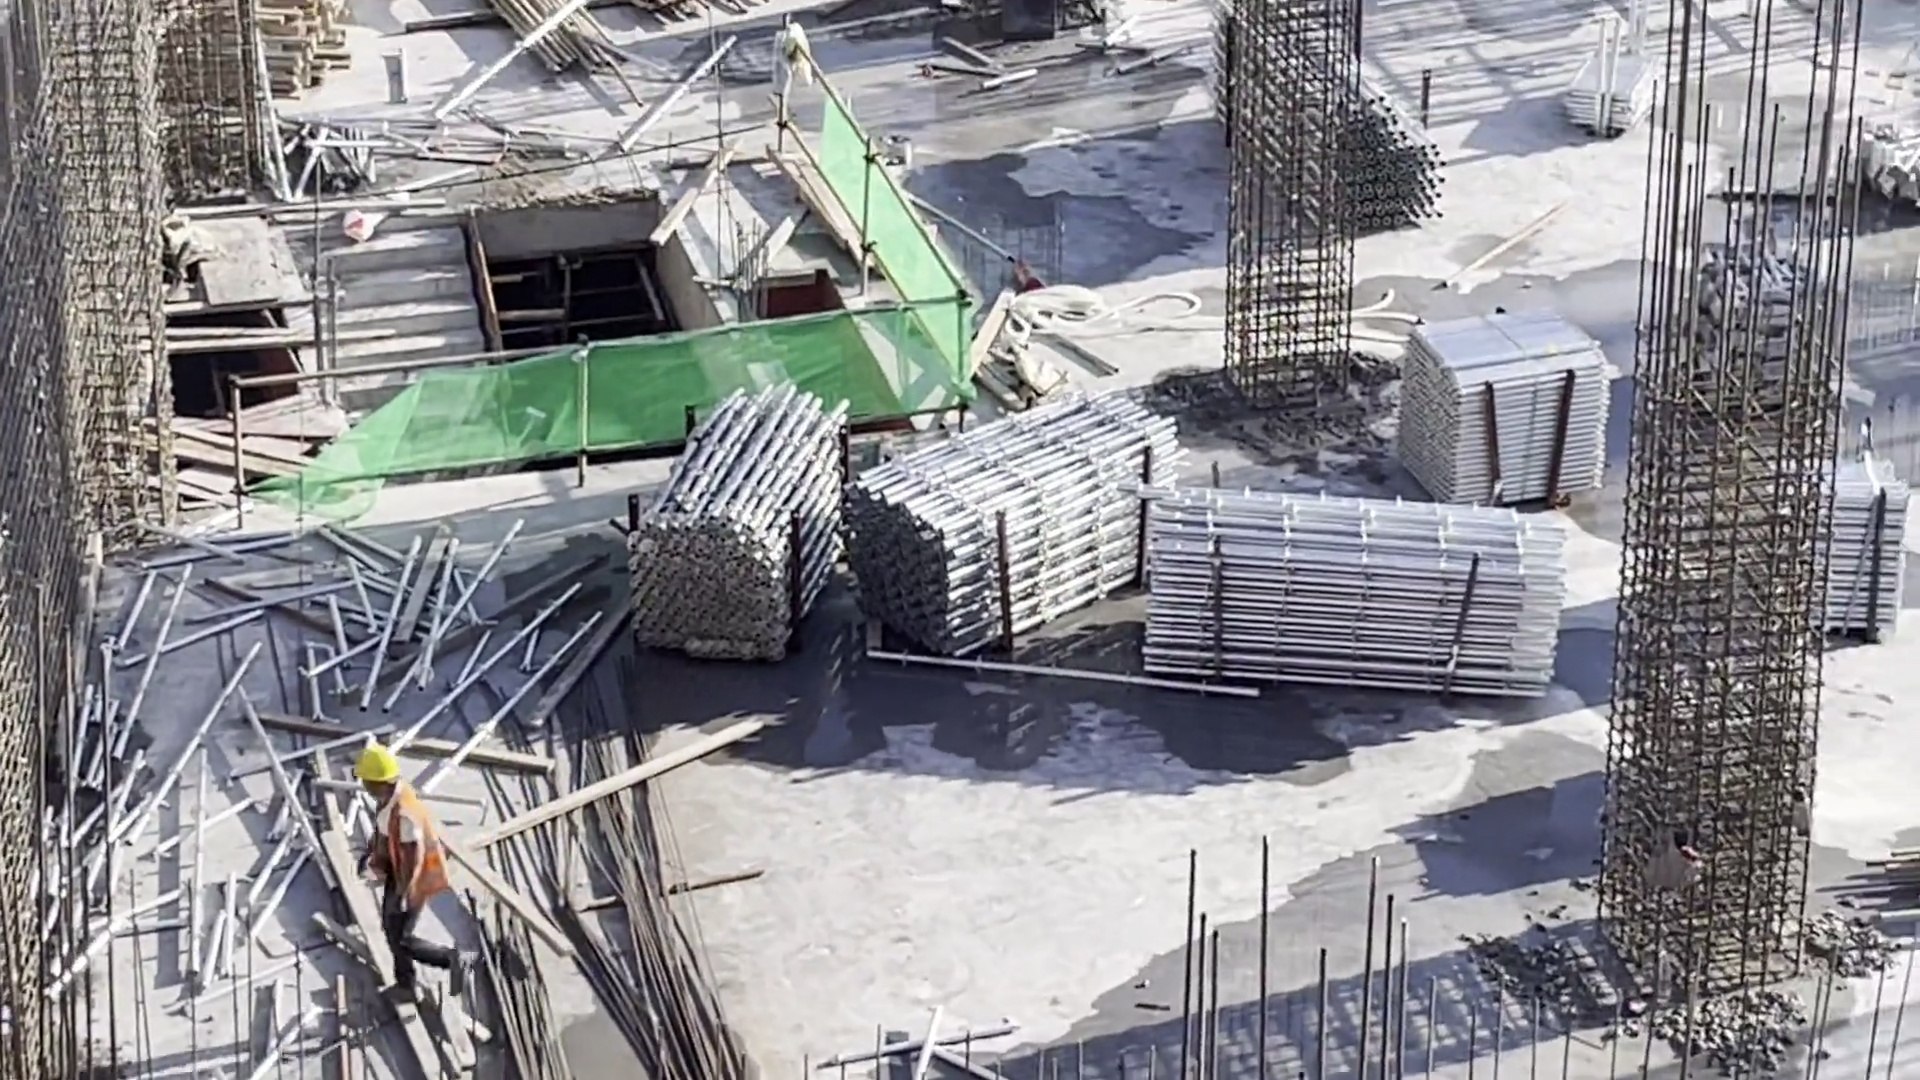helmet: (348, 746, 407, 798)
person: (355, 746, 478, 1022)
rebar: (532, 687, 734, 1080), (465, 929, 561, 1080)
scaffold: (1173, 504, 1552, 703), (889, 415, 1152, 628), (655, 399, 825, 641), (1248, 1, 1429, 207), (1411, 333, 1577, 524), (1796, 473, 1913, 627), (1581, 45, 1664, 136)
vest: (367, 803, 431, 914)
wood: (172, 1, 357, 88)
